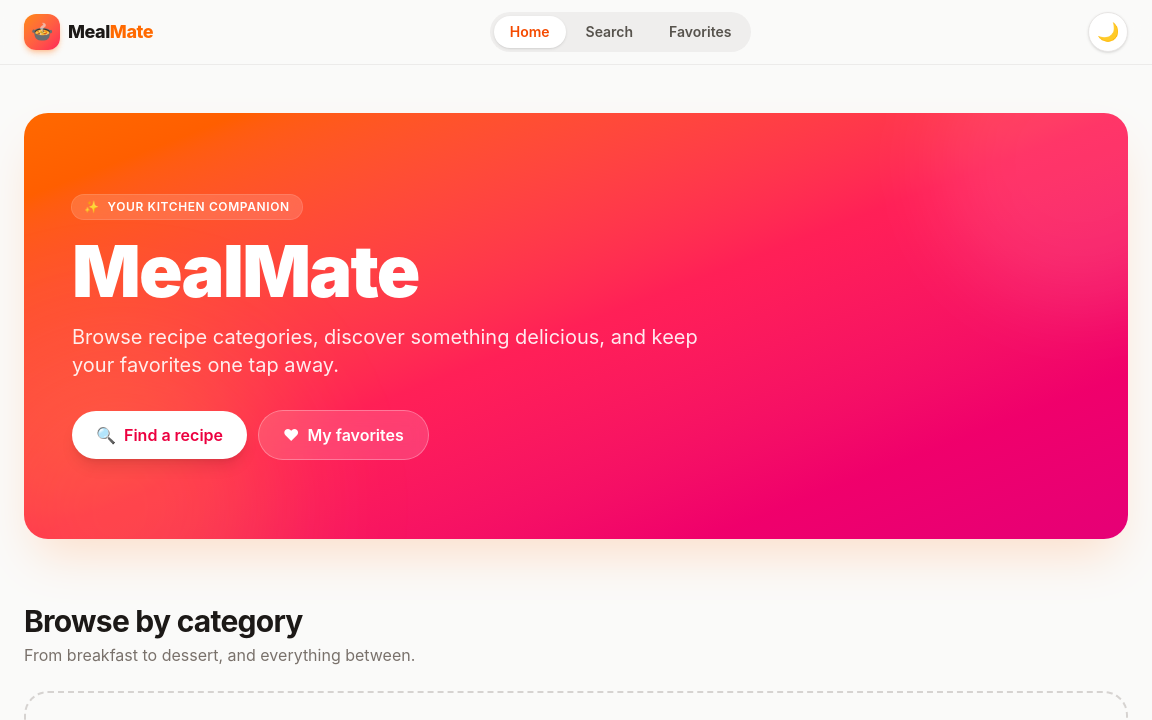
Test: App routing › navigates to the Search page when its nav link is clicked
// Finds a link with the text "Search" and clicks it.
Click the link "Search" at (609, 32), box [586,23,633,40]
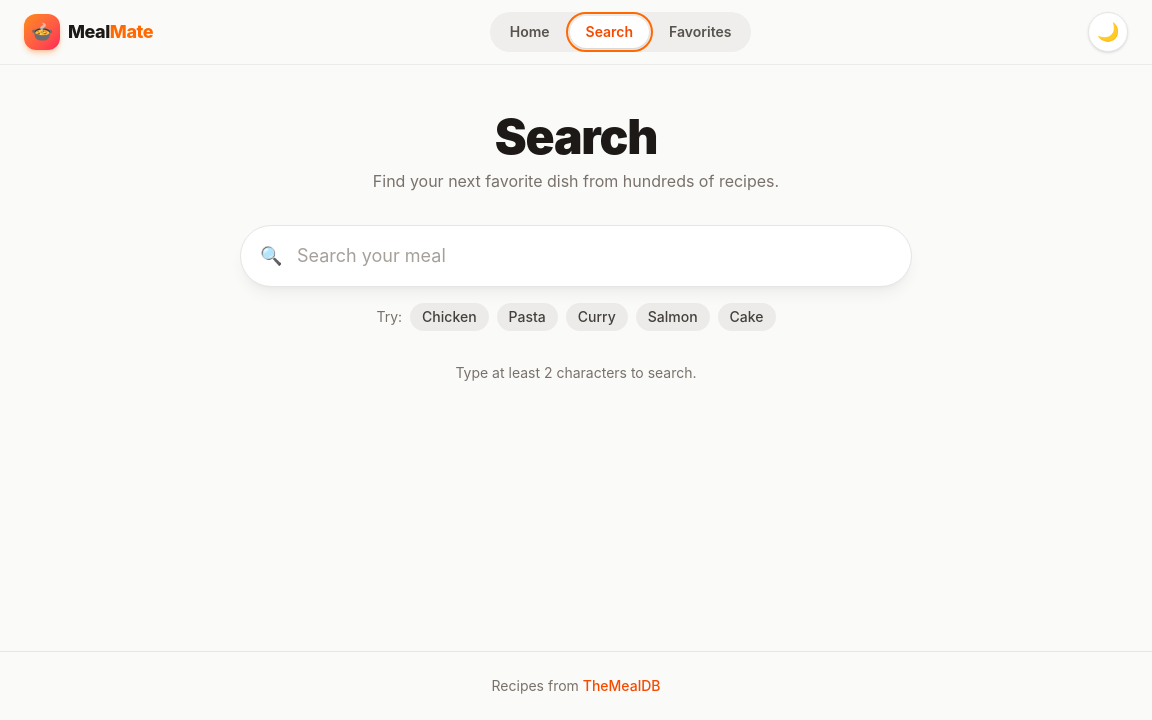
Check: the heading "Search" is shown, box [495,107,657,166]
